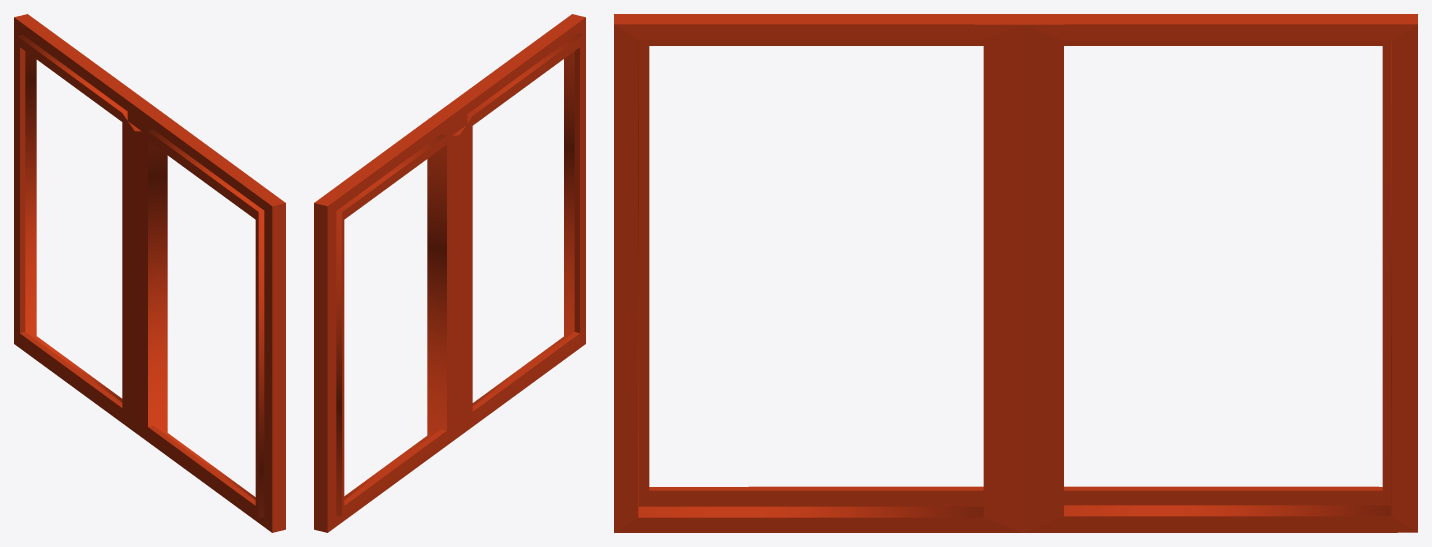
Rendered from finestra.obj.
The picture shows the model from 3 angles, left to right: view 1: azimuth 30°, elevation 25°; view 2: azimuth 150°, elevation 25°; view 3: azimuth 270°, elevation 25°; orthographic projection. The views are drawn at different scales.
Visible parts, largest first — view 1: Cube.002; view 2: Cube.002; view 3: Cube.002.
Part boxes in pixels (<box>): Cube.002: <box>14,14,285,532</box>; Cube.002: <box>314,14,585,532</box>; Cube.002: <box>614,14,1417,532</box>.
Size of the model in its own units: 0.15 by 2.39 by 3.43.
